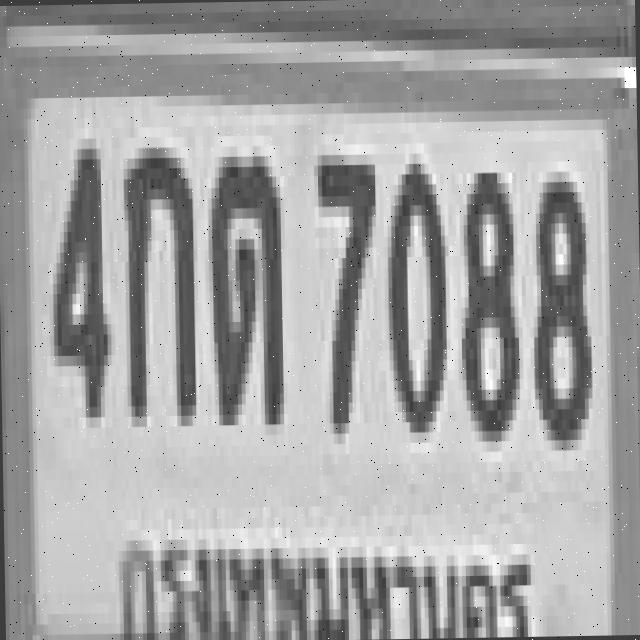0: (382, 153, 444, 422)
10GorGai: (118, 136, 192, 416)
30TorTao: (207, 145, 280, 415)
4: (46, 128, 104, 407)
7: (314, 144, 376, 423)
8: (527, 171, 589, 440), (454, 162, 516, 431)
Bangkok: (114, 535, 540, 640)
